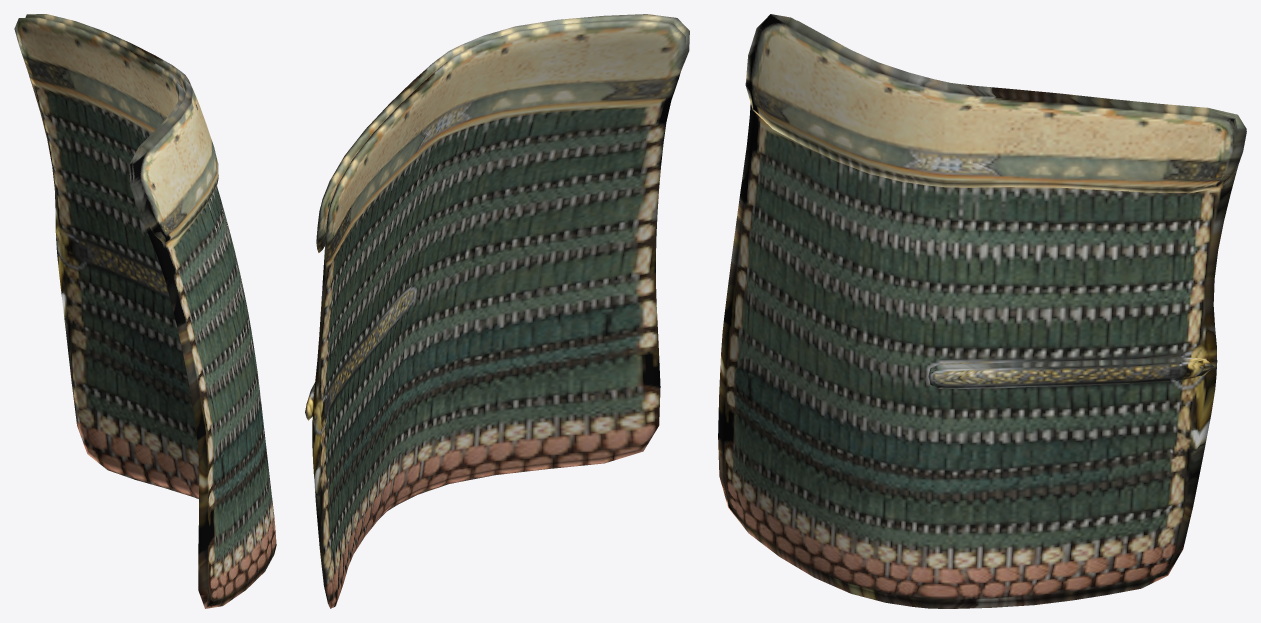
File: armor_kata_R.fbx
3 views of the same model, side by side, from view 1: azimuth 30°, elevation 25°; view 2: azimuth 150°, elevation 25°; view 3: azimuth 270°, elevation 25° (orthographic). The views are drawn at different scales.
Parts seen in each view (by area): view 1: armor_kata_L; view 2: armor_kata_L; view 3: armor_kata_L.
Part boxes in pixels (left/top/right/bottom): armor_kata_L: left=14, top=14, right=276, bottom=608; armor_kata_L: left=305, top=14, right=689, bottom=608; armor_kata_L: left=718, top=14, right=1246, bottom=608.
Bounding box in the file's own units: 22.4 × 48.96 × 46.54.
Materials: 1 (1 with a texture image).
